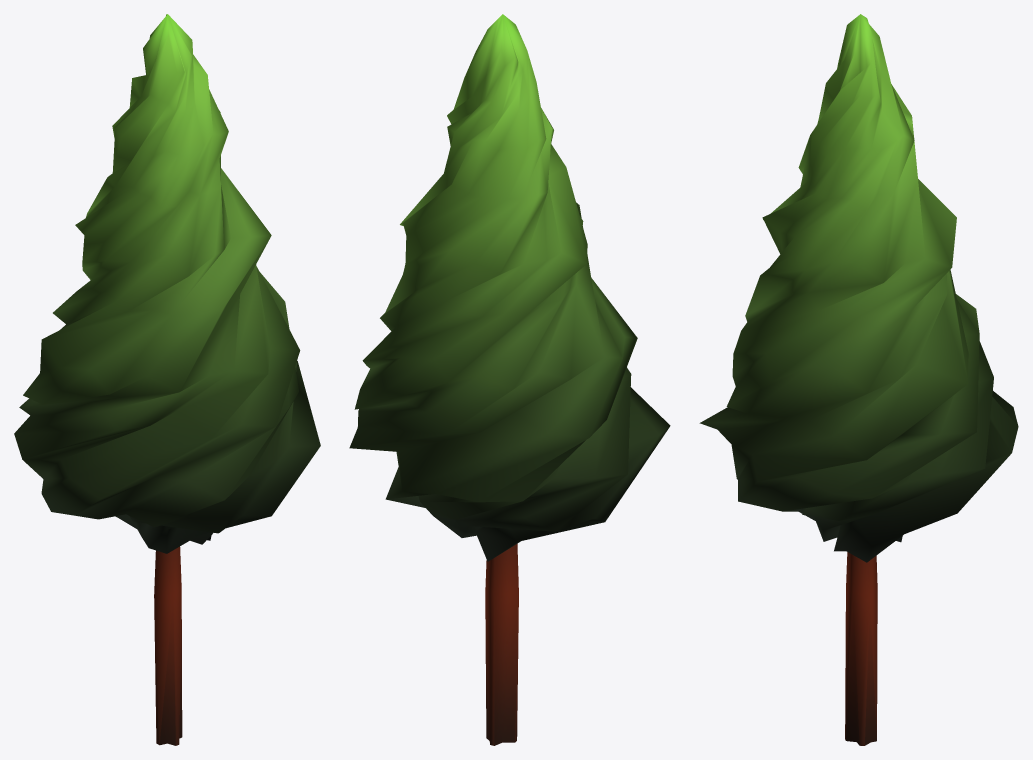
The model's file is Pine_Tree_1C.fbx.
The picture shows the model from 3 angles, left to right: view 1: azimuth 30°, elevation 25°; view 2: azimuth 150°, elevation 25°; view 3: azimuth 270°, elevation 25°; orthographic projection.
Parts seen in each view (by area): view 1: Pine_Tree_1C; view 2: Pine_Tree_1C; view 3: Pine_Tree_1C.
Part boxes in pixels (x1,y1,x2,y2): Pine_Tree_1C: (14,14,320,745); Pine_Tree_1C: (349,14,670,745); Pine_Tree_1C: (699,14,1018,745).
Size of the model in its own units: 379 by 970 by 387.
